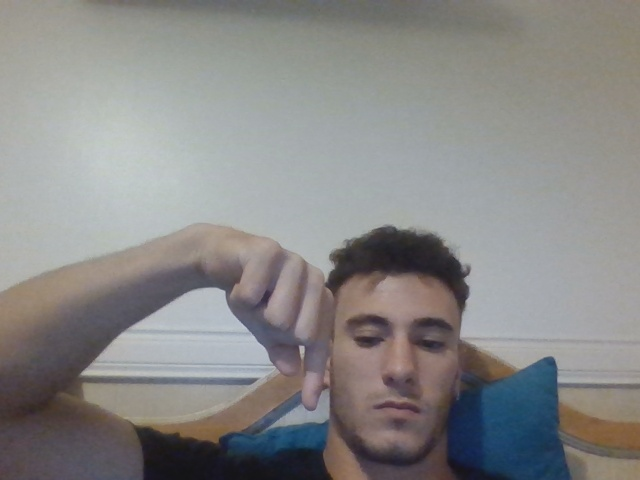Down: (227, 236, 335, 411)
